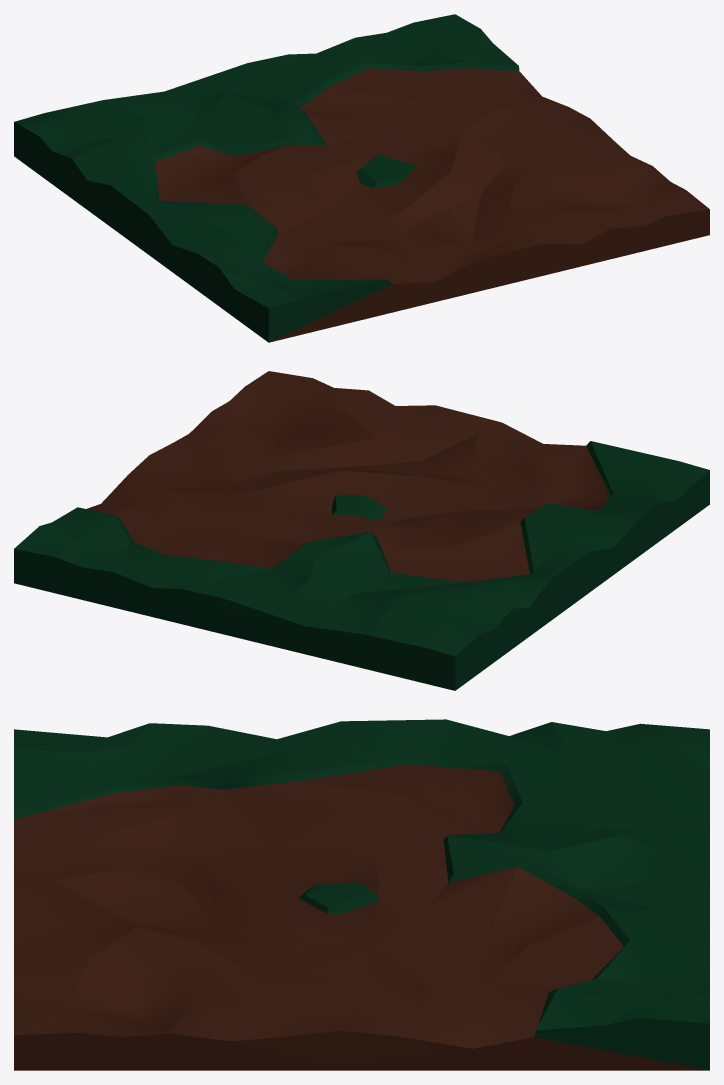
Rendered from Ground_Corner_Internal_LU.fbx.
3 views of the same model, one above another, from view 1: azimuth 30°, elevation 25°; view 2: azimuth 150°, elevation 25°; view 3: azimuth 270°, elevation 25° (orthographic). The views are drawn at different scales.
Visible parts, largest first — view 1: Ground_Corner_Internal_LU; view 2: Ground_Corner_Internal_LU; view 3: Ground_Corner_Internal_LU.
Part boxes in pixels (x1,y1,x2,y2): Ground_Corner_Internal_LU: (14, 14, 709, 342); Ground_Corner_Internal_LU: (14, 371, 709, 690); Ground_Corner_Internal_LU: (14, 719, 709, 1070).
Size of the model in its own units: 147 by 14.69 by 147.
